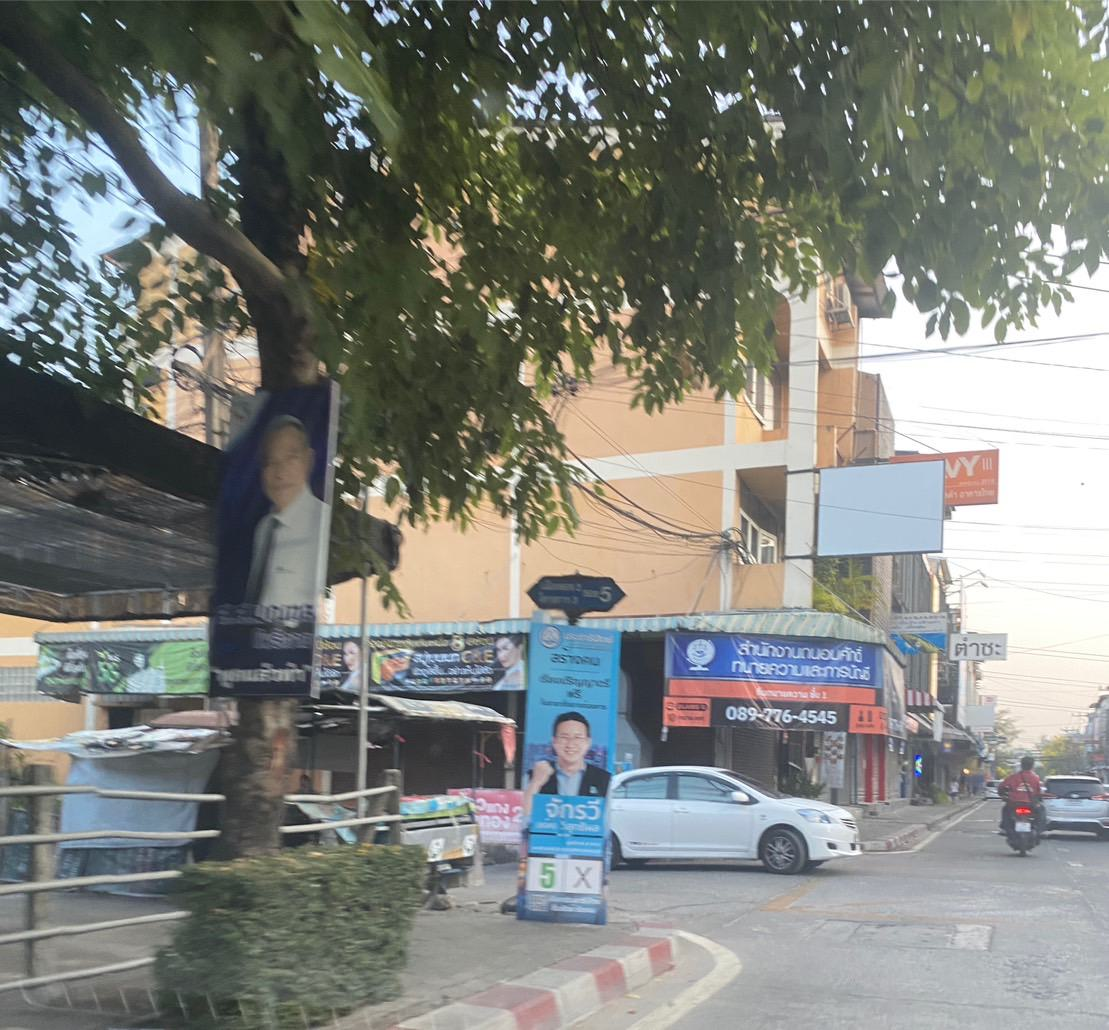Banner: (212, 382, 330, 697), (519, 612, 621, 926)
